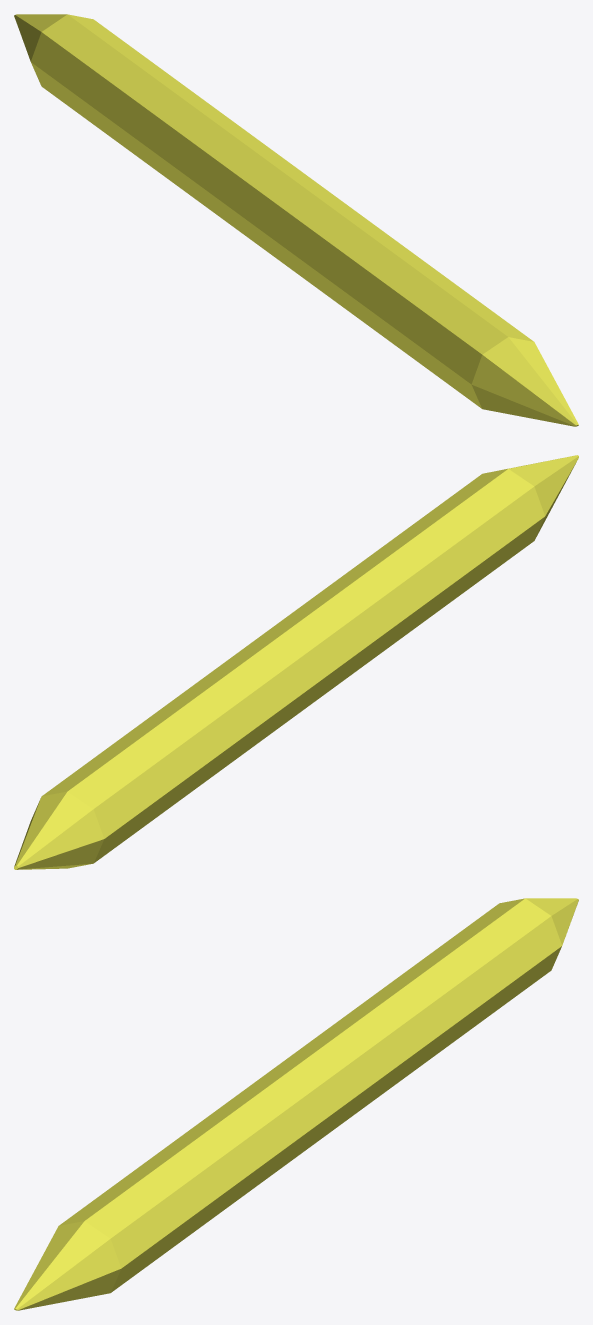
The model's file is Lapiz 2.fbx.
The picture shows the model from 3 angles, top to bottom: view 1: azimuth 30°, elevation 25°; view 2: azimuth 150°, elevation 25°; view 3: azimuth 330°, elevation 25°; orthographic projection.
Parts seen in each view (by area): view 1: Lapiz_2; view 2: Lapiz_2; view 3: Lapiz_2.
Part boxes in pixels (x1,y1,x2,y2): Lapiz_2: [14, 14, 578, 426]; Lapiz_2: [14, 455, 578, 869]; Lapiz_2: [14, 898, 578, 1310].
Bounding box in the file's own units: 0.0067 × 0.0067 × 0.0887.
